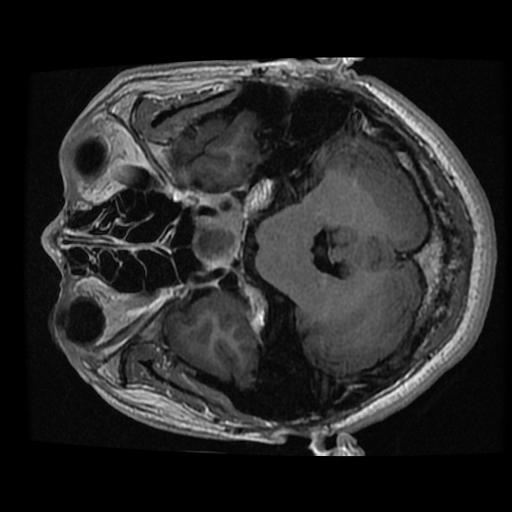pituitary tumour: (191, 214, 242, 268)
